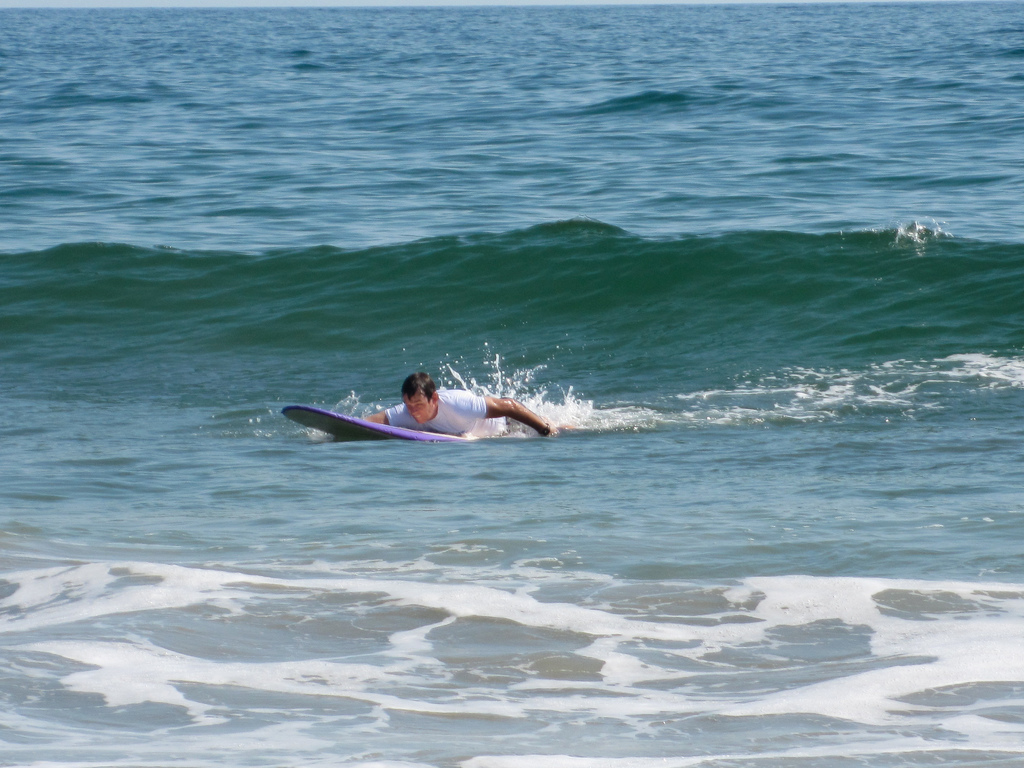Person: (353, 369, 562, 438)
